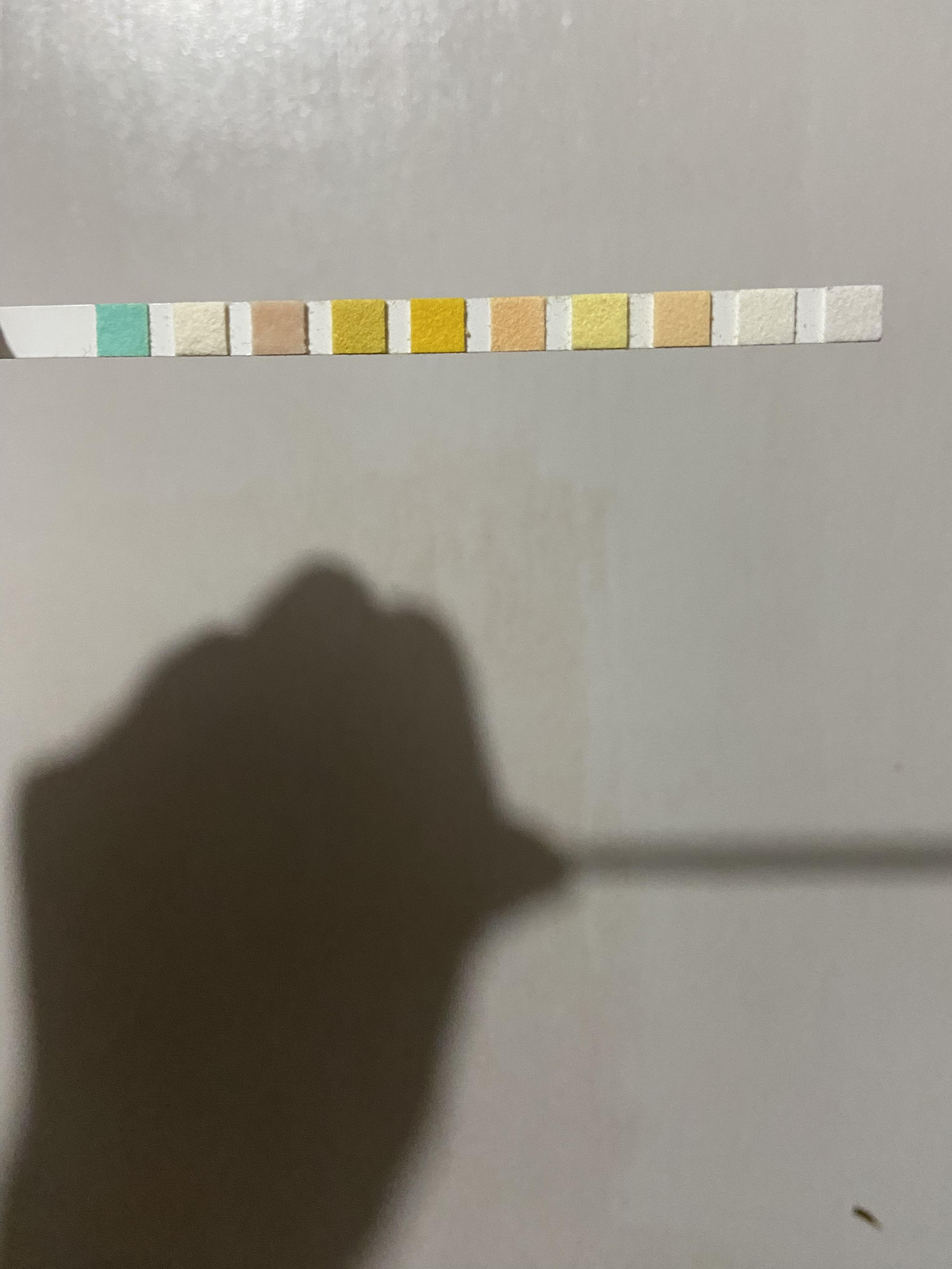Bilirubin: (176, 305, 225, 353)
Blood: (412, 300, 463, 351)
Glucose: (98, 305, 147, 354)
Ketone: (255, 304, 303, 352)
Leukocytes: (827, 288, 880, 338)
Nitrite: (740, 291, 793, 342)
Protein: (575, 297, 626, 348)
SpGravity: (334, 302, 383, 351)
Urobilinogen: (656, 293, 709, 344)
pH: (493, 300, 544, 349)
strip: (1, 287, 880, 359)
